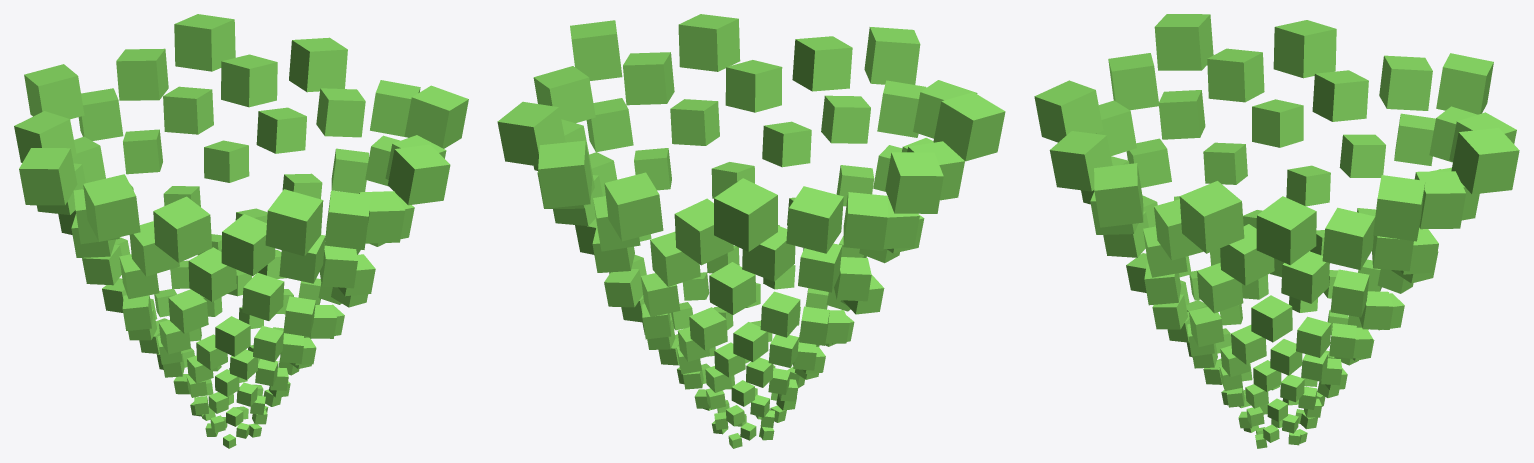
3 renders of one model, left to right at view 1: azimuth 30°, elevation 25°; view 2: azimuth 150°, elevation 25°; view 3: azimuth 270°, elevation 25°, orthographic. The views are drawn at different scales.
Parts seen in each view (by area): view 1: Null; view 2: Null; view 3: Null.
Boxes of the visible parts, x1=… form: Null: x1=14, y1=14, x2=468, y2=448; Null: x1=497, y1=14, x2=1005, y2=448; Null: x1=1034, y1=14, x2=1519, y2=448.
Bounding box in the file's own units: 1971 × 1550 × 1971.
